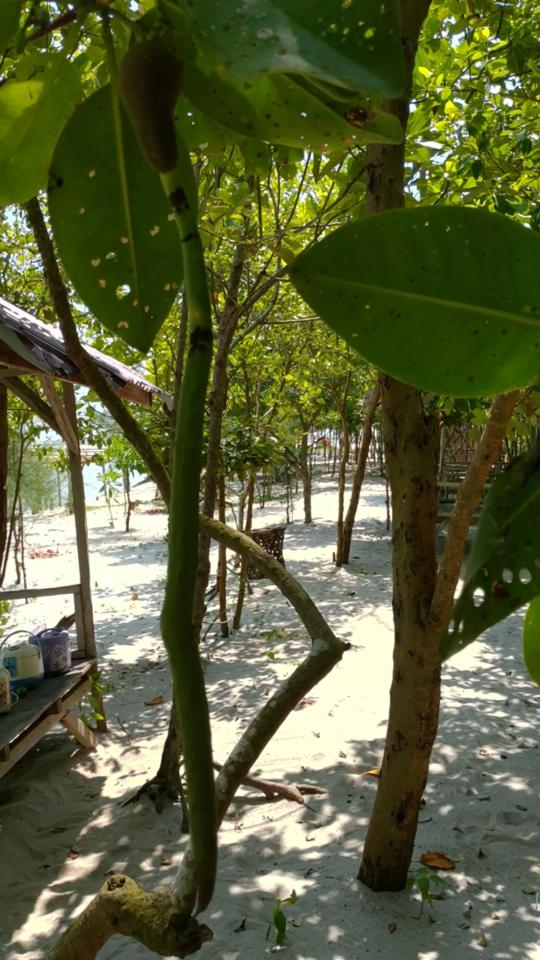mentah: (98, 22, 242, 922)
